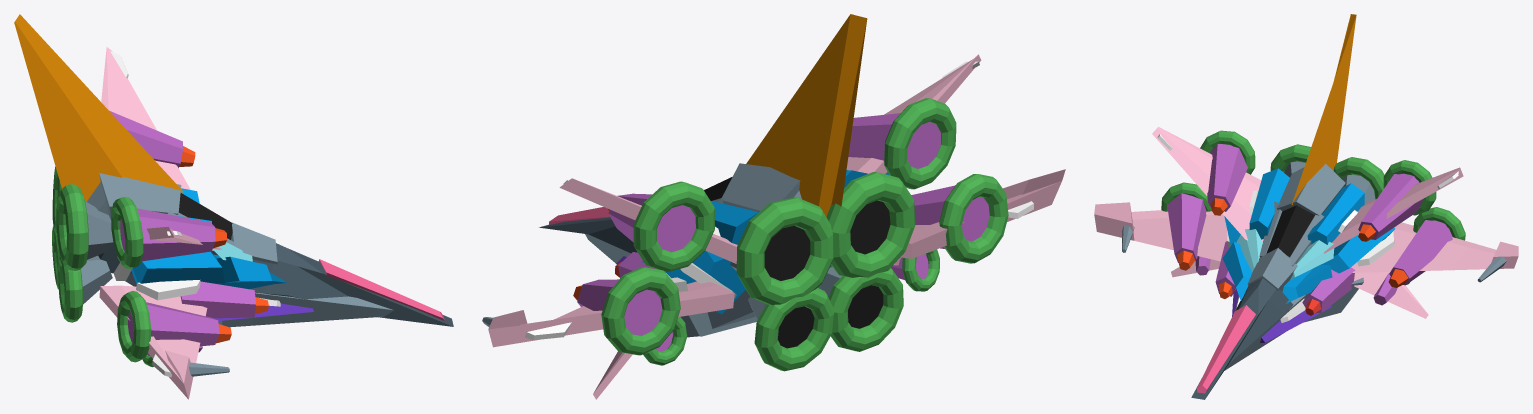
The model's file is CharacterSpaceShip.glb.
3 renders of one model, left to right at view 1: azimuth 30°, elevation 25°; view 2: azimuth 150°, elevation 25°; view 3: azimuth 270°, elevation 25°, orthographic. The views are drawn at different scales.
Parts seen in each view (by area): view 1: group168394825, group1963424978, group1255592917, group1184730635, group1293524730, group793712102, group35835182, group725447756, group493417941, group545580355, group1532883360, group1806260245 (+12 smaller); view 2: group168394825, group530922836, group35835182, group424196609, group1150853737, group2142765860, group1806260245, group377144643, group1994713025, group1212457892, group793712102, group1184730635 (+19 smaller); view 3: group1963424978, group1184730635, group377144643, group168394825, group756527425, group1180287971, group545580355, group493417941, group1386473134, group997109162, group793712102, group725447756 (+23 smaller).
Boxes of the visible parts, left/top/right/bottom form: group168394825: left=14, top=14, right=183, bottom=201; group1963424978: left=98, top=193, right=453, bottom=326; group1255592917: left=131, top=251, right=286, bottom=289; group1184730635: left=99, top=285, right=207, bottom=399; group1293524730: left=218, top=292, right=393, bottom=327; group793712102: left=120, top=208, right=215, bottom=261; group35835182: left=56, top=184, right=88, bottom=270; group725447756: left=101, top=47, right=190, bottom=189; group493417941: left=128, top=302, right=219, bottom=346; group545580355: left=99, top=173, right=181, bottom=220; group1532883360: left=180, top=281, right=255, bottom=318; group1806260245: left=117, top=291, right=151, bottom=362; group168394825: left=746, top=14, right=867, bottom=216; group530922836: left=736, top=197, right=833, bottom=305; group35835182: left=826, top=172, right=915, bottom=277; group424196609: left=633, top=181, right=714, bottom=272; group1150853737: left=601, top=267, right=680, bottom=355; group2142765860: left=884, top=98, right=956, bottom=189; group1806260245: left=939, top=174, right=1008, bottom=263; group377144643: left=488, top=281, right=734, bottom=347; group1994713025: left=754, top=288, right=834, bottom=371; group1212457892: left=828, top=268, right=903, bottom=351; group793712102: left=848, top=113, right=940, bottom=173; group1184730635: left=900, top=169, right=1065, bottom=258; group1963424978: left=1191, top=205, right=1314, bottom=399; group1184730635: left=1094, top=202, right=1227, bottom=261; group377144643: left=1351, top=222, right=1518, bottom=272; group168394825: left=1291, top=14, right=1356, bottom=204; group756527425: left=1152, top=127, right=1263, bottom=241; group1180287971: left=1282, top=228, right=1394, bottom=303; group545580355: left=1276, top=163, right=1345, bottom=215; group493417941: left=1167, top=193, right=1206, bottom=262; group1386473134: left=1358, top=173, right=1423, bottom=239; group997109162: left=1389, top=220, right=1452, bottom=285; group793712102: left=1207, top=144, right=1247, bottom=211; group725447756: left=1324, top=167, right=1463, bottom=253.
Size of the model in its own units: 0.2775 by 0.2433 by 0.3684.
